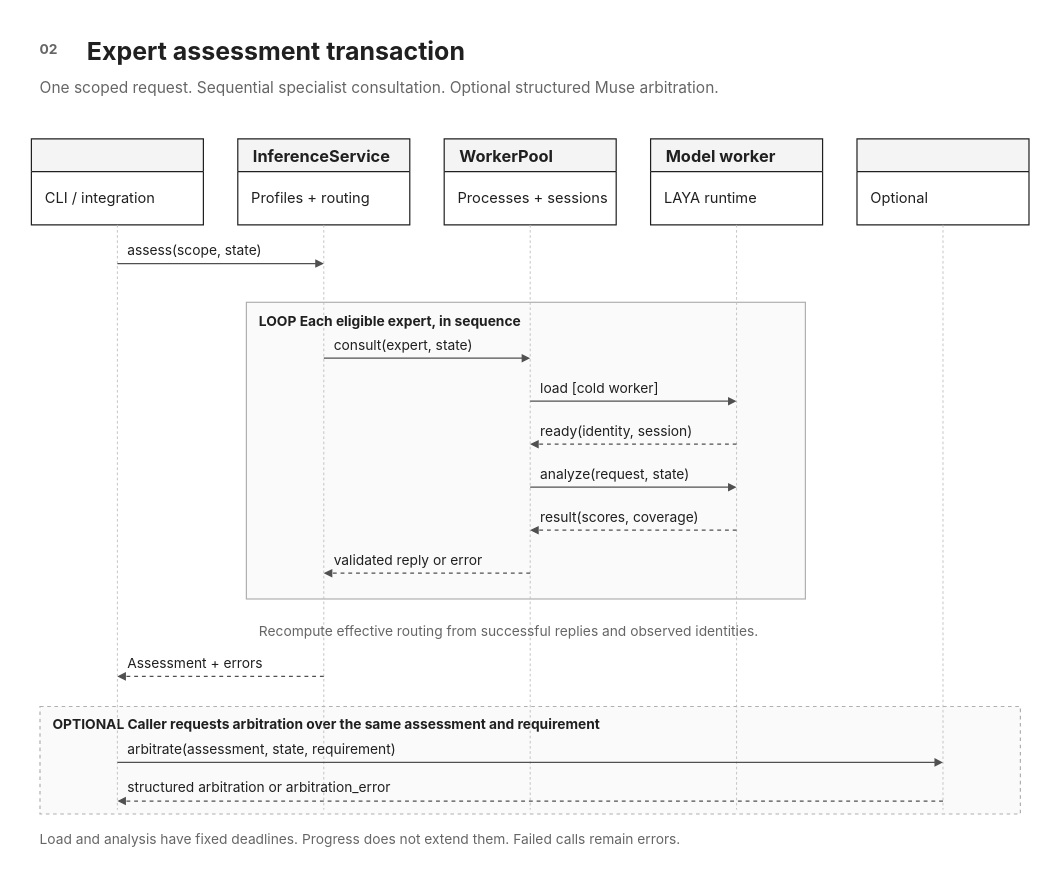
This 1060x871 diagram has some shape labels left out. Each missing label, with the box of its shape:
Caller: (30, 138, 204, 225)
Muse backend: (856, 138, 1029, 225)
